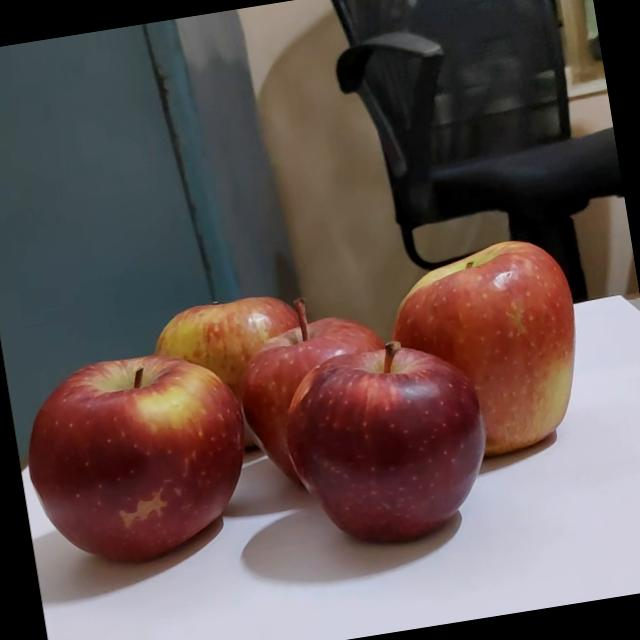apple: (3, 330, 262, 578), (266, 316, 506, 552), (352, 227, 573, 466), (202, 274, 392, 498), (109, 288, 298, 464)
